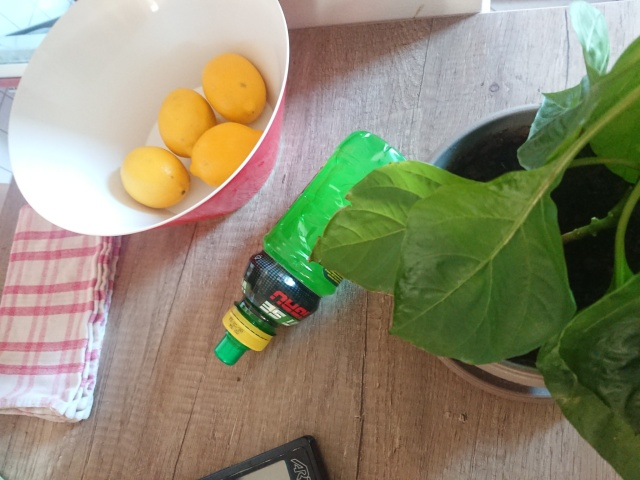Vindi Iso Sport Lemon-Grapefruit 500mL: (211, 128, 414, 368)
